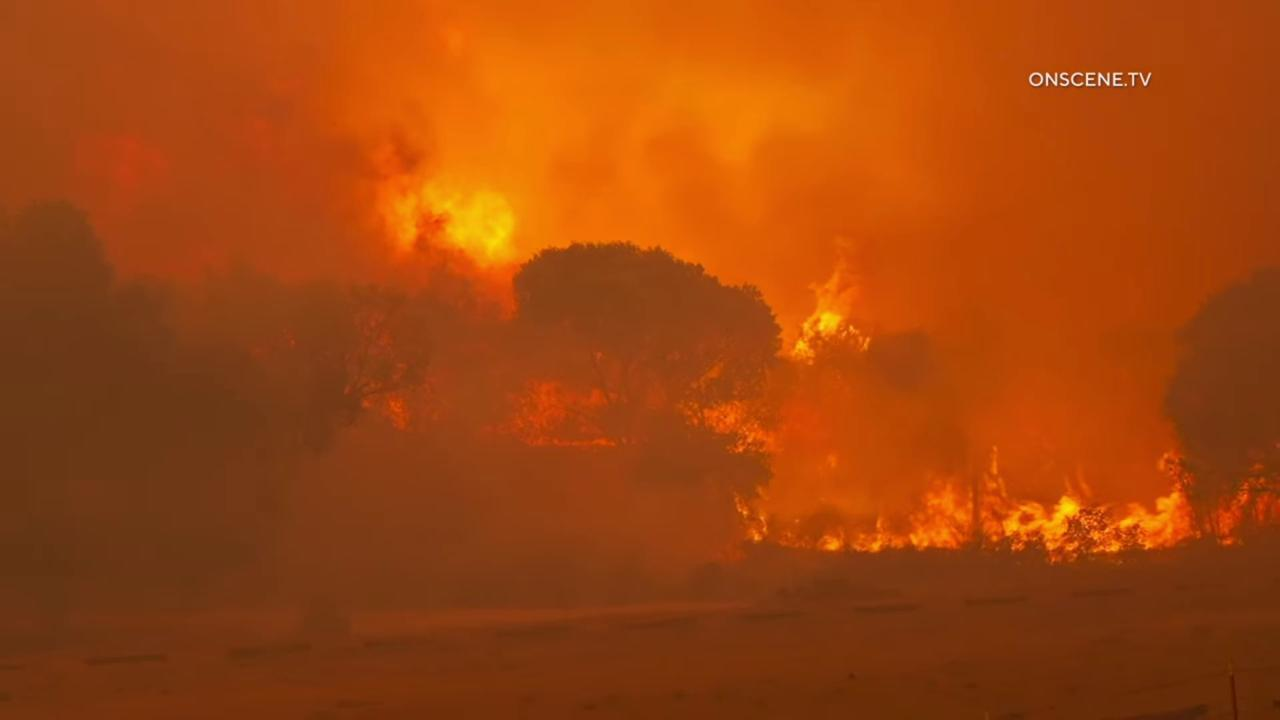fire: (716, 440, 1205, 567), (391, 180, 525, 272), (697, 380, 788, 456), (780, 307, 875, 365)
smoke: (0, 0, 1280, 720)
